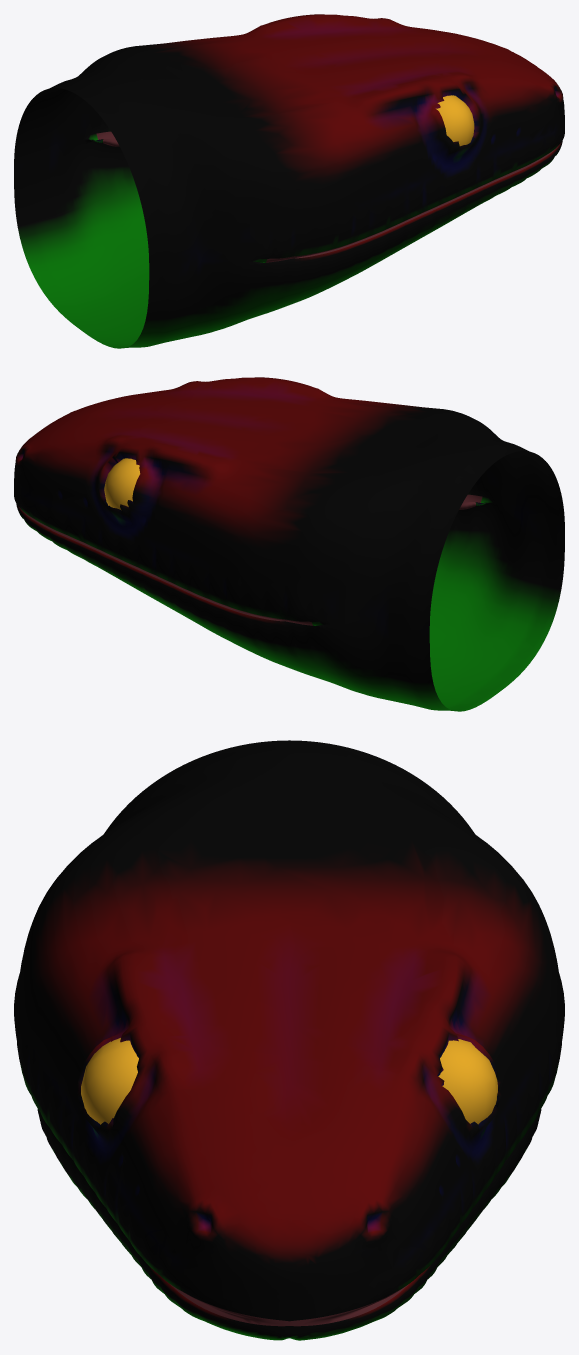
Rendered from SM_SnakeHead_L1.glb.
3 renders of one model, top to bottom at view 1: azimuth 30°, elevation 25°; view 2: azimuth 150°, elevation 25°; view 3: azimuth 270°, elevation 25°, orthographic. The views are drawn at different scales.
Visible parts, largest first — view 1: SM_SnakeHead; view 2: SM_SnakeHead; view 3: SM_SnakeHead.
Part boxes in pixels (x1,y1,x2,y2): SM_SnakeHead: (14,14,564,348); SM_SnakeHead: (14,377,564,711); SM_SnakeHead: (14,740,564,1340).
Bounding box in the file's own units: 1.96 × 0.9477 × 1.25.
